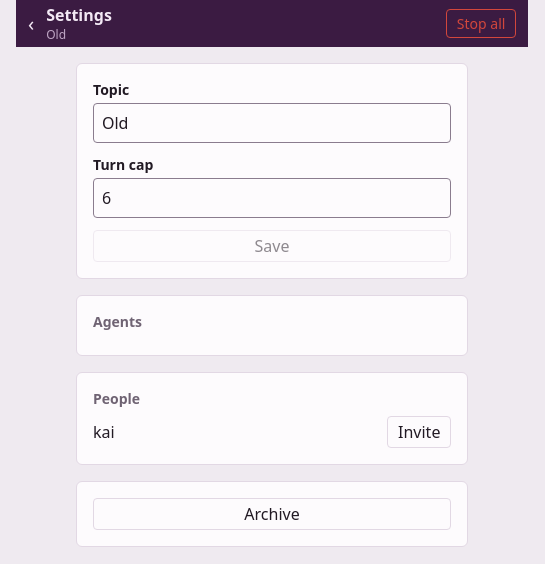
Test: Save is disabled for a blank topic, a cap of 0, 101 or 2.5, and when nothing differs
Expected: the button "Save" is disabled, left=93, top=230, right=451, bottom=262
Clear the field labelled "Topic" at x=272, y=123, box left=93, top=103, right=451, bottom=143
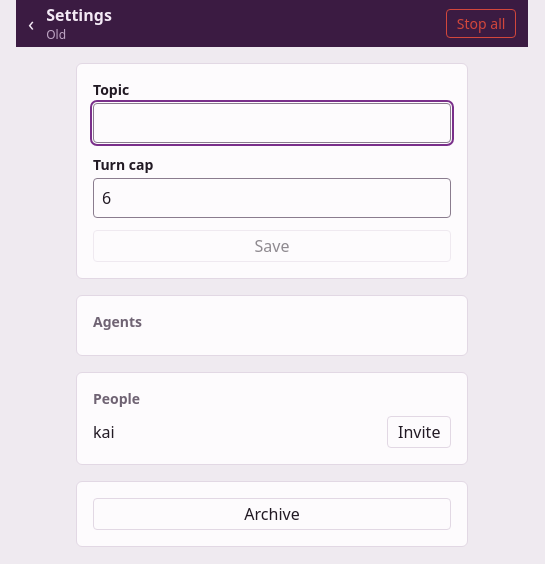
Expected: the button "Save" is disabled, left=93, top=230, right=451, bottom=262
Type "New" into the field labelled "Topic" at x=272, y=123, box left=93, top=103, right=451, bottom=143
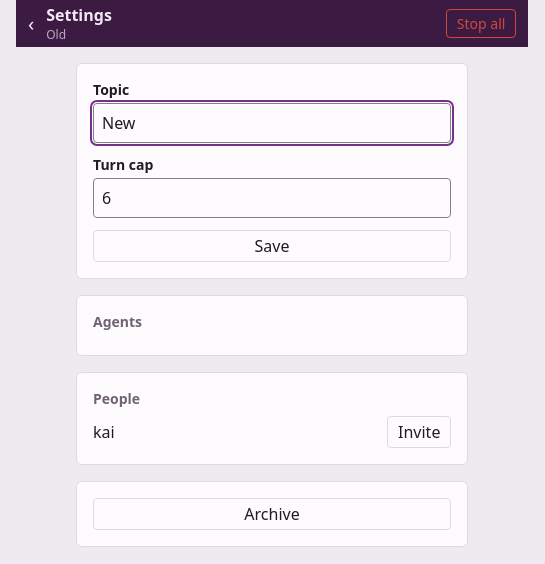
Expected: the button "Save" is enabled, left=93, top=230, right=451, bottom=262
Replace the text in the number field labelled "Turn cap" with "0" at x=272, y=198, box left=93, top=178, right=451, bottom=218
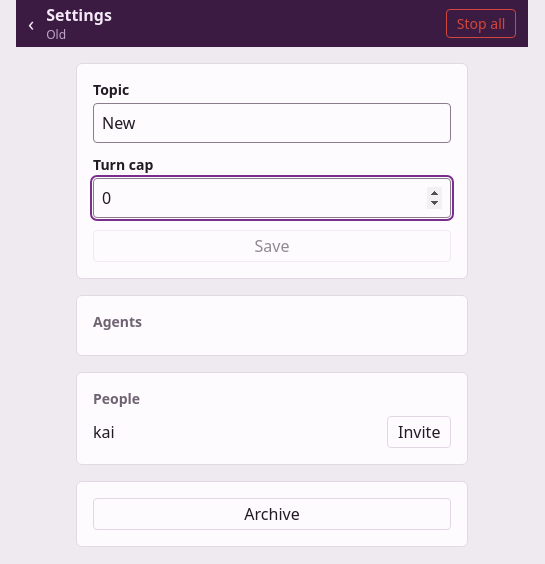
Expected: the button "Save" is disabled, left=93, top=230, right=451, bottom=262
Replace the text in the number field labelled "Turn cap" with "101" at x=272, y=198, box left=93, top=178, right=451, bottom=218
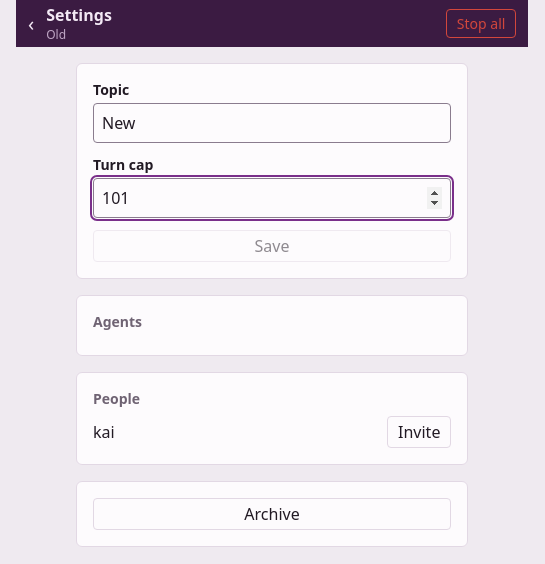
Expected: the button "Save" is disabled, left=93, top=230, right=451, bottom=262
Replace the text in the number field labelled "Turn cap" with "2.5" at x=272, y=198, box left=93, top=178, right=451, bottom=218
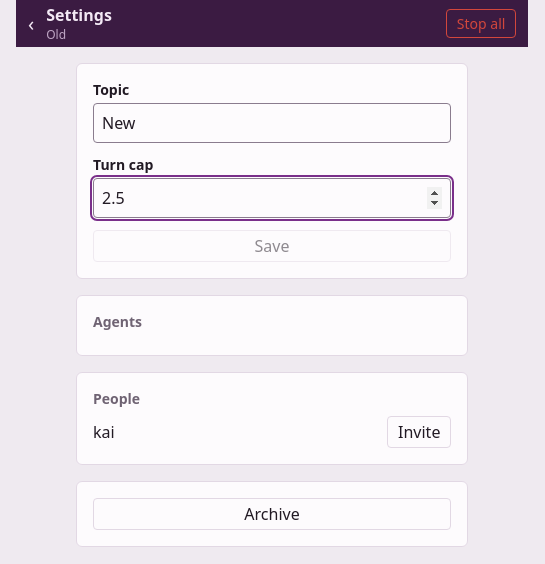
Expected: the button "Save" is disabled, left=93, top=230, right=451, bottom=262
Replace the text in the number field labelled "Turn cap" with "100" at x=272, y=198, box left=93, top=178, right=451, bottom=218
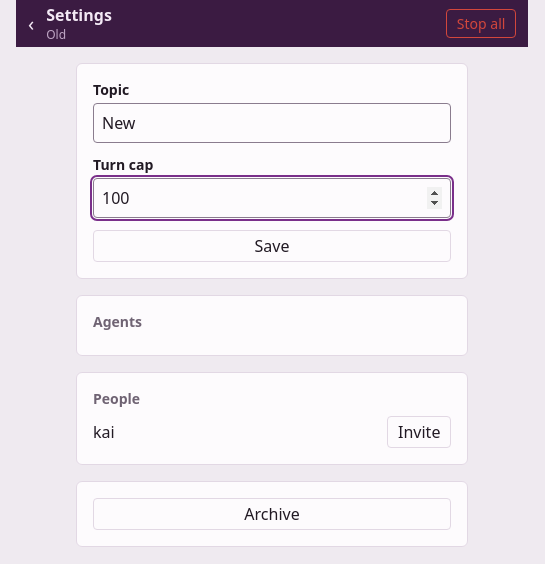
Expected: the button "Save" is enabled, left=93, top=230, right=451, bottom=262
